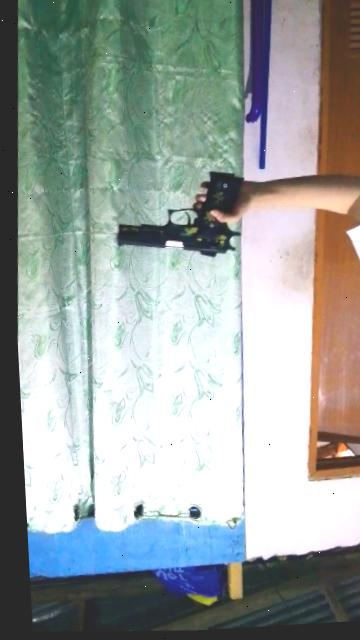pistol: (96, 156, 250, 265)
